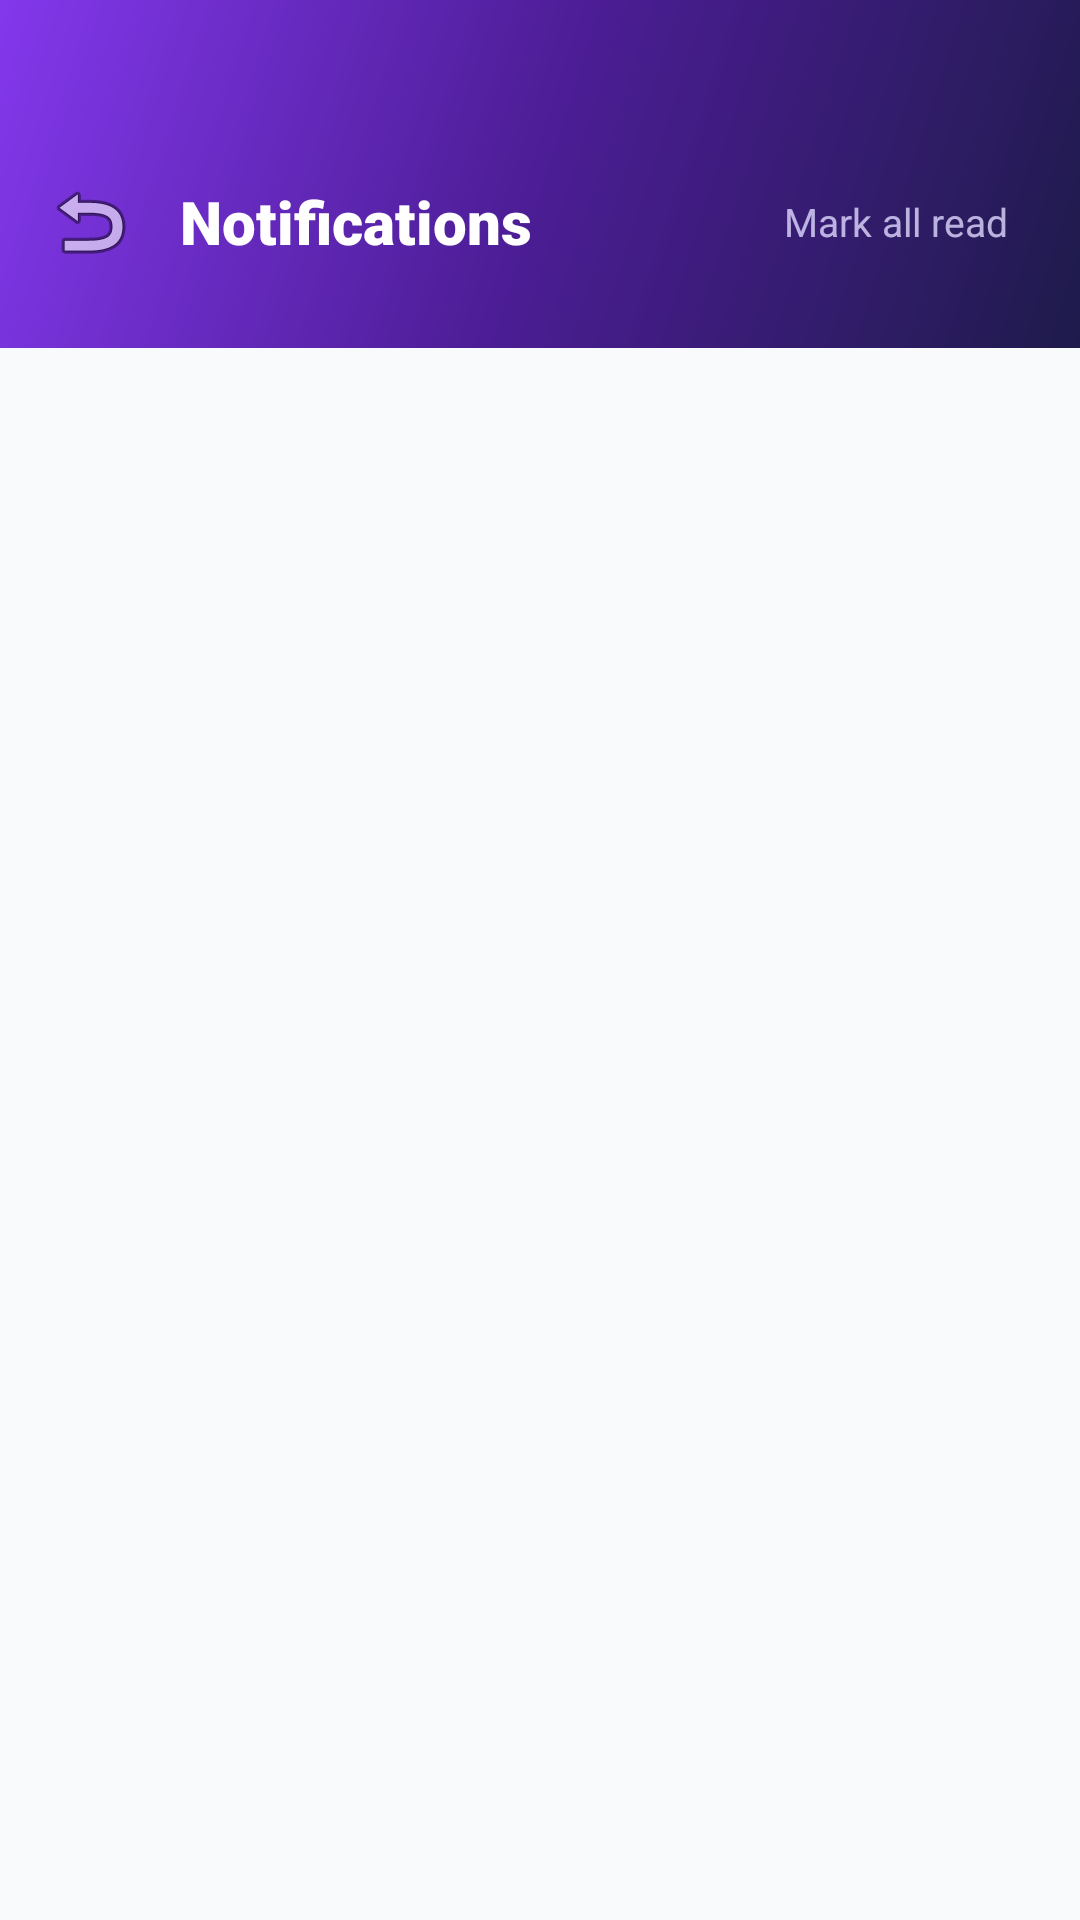

Icons on this 1080px×1920px Android screen, each with its box as (x1=x1, y1=y1, x2=x2, y2=y2):
Back: (x1=57, y1=192, x2=126, y2=254)
